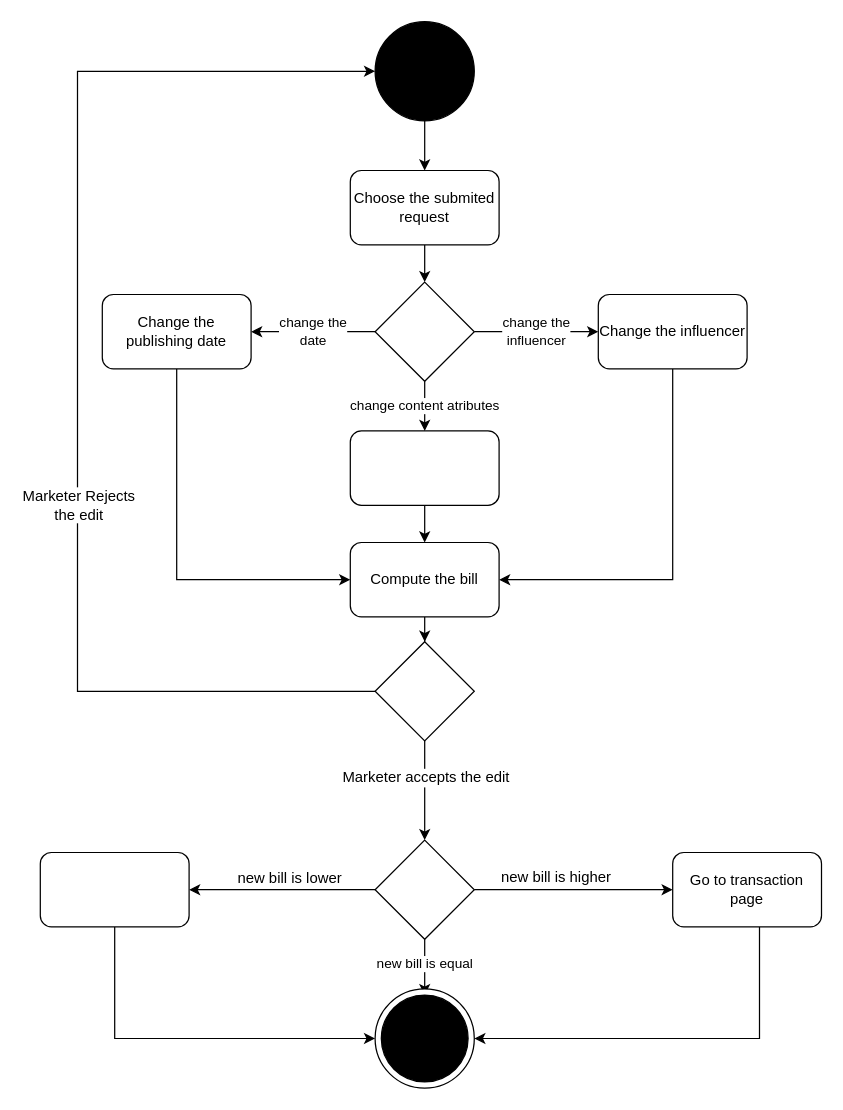
The diagram is 843 pixels wide and 1110 high, and some of its shapes have lost their labels. The shapes that lost their labels are listed below. From the top down, each one's centre as x and y in pixels, then its label:
[424,467]: Change Content attributes
[114,889]: refund the bill
